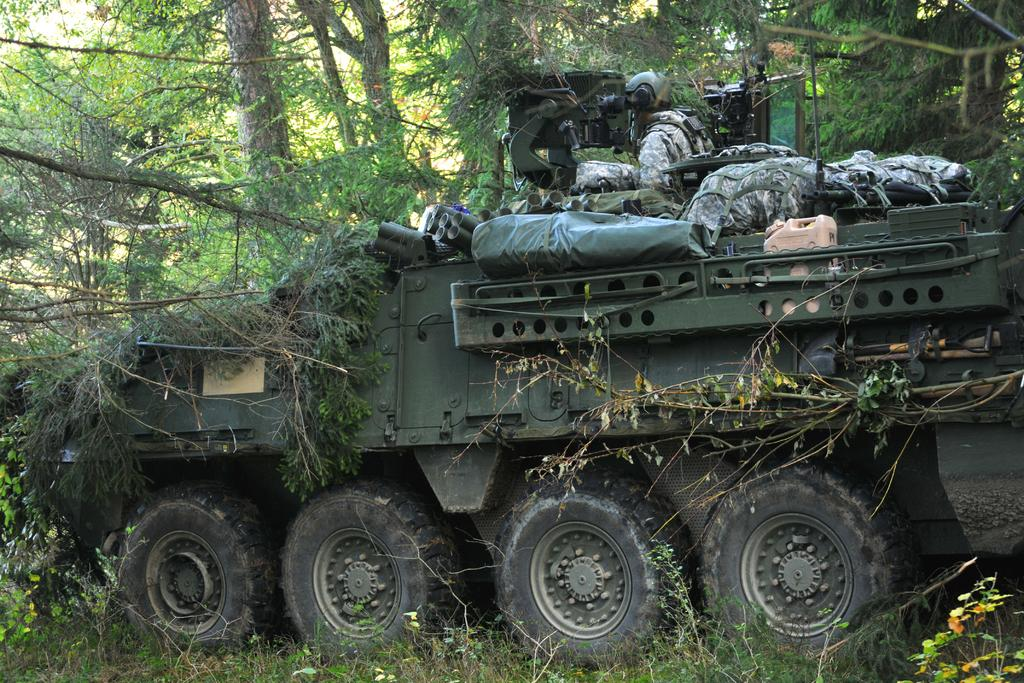Tank: (30, 67, 1023, 668)
